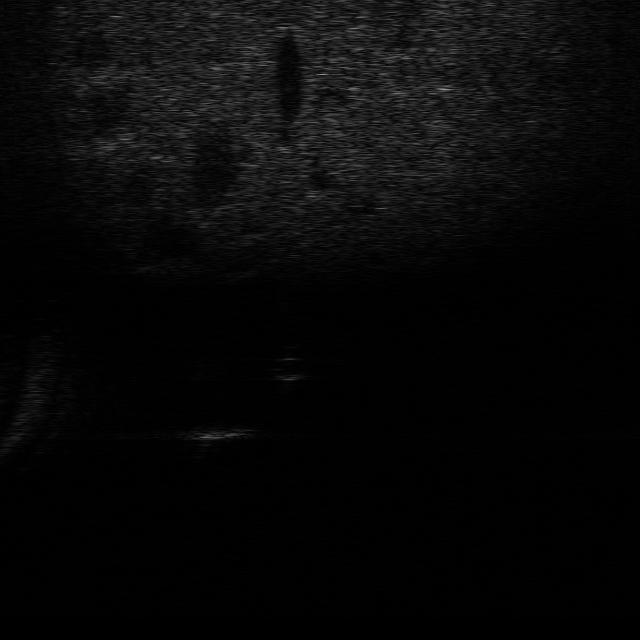ball: (266, 350, 315, 385)
square cage: (171, 416, 264, 456)
